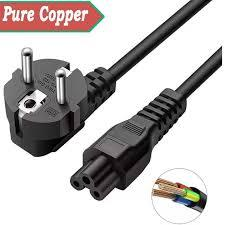charger: (5, 0, 219, 202)
